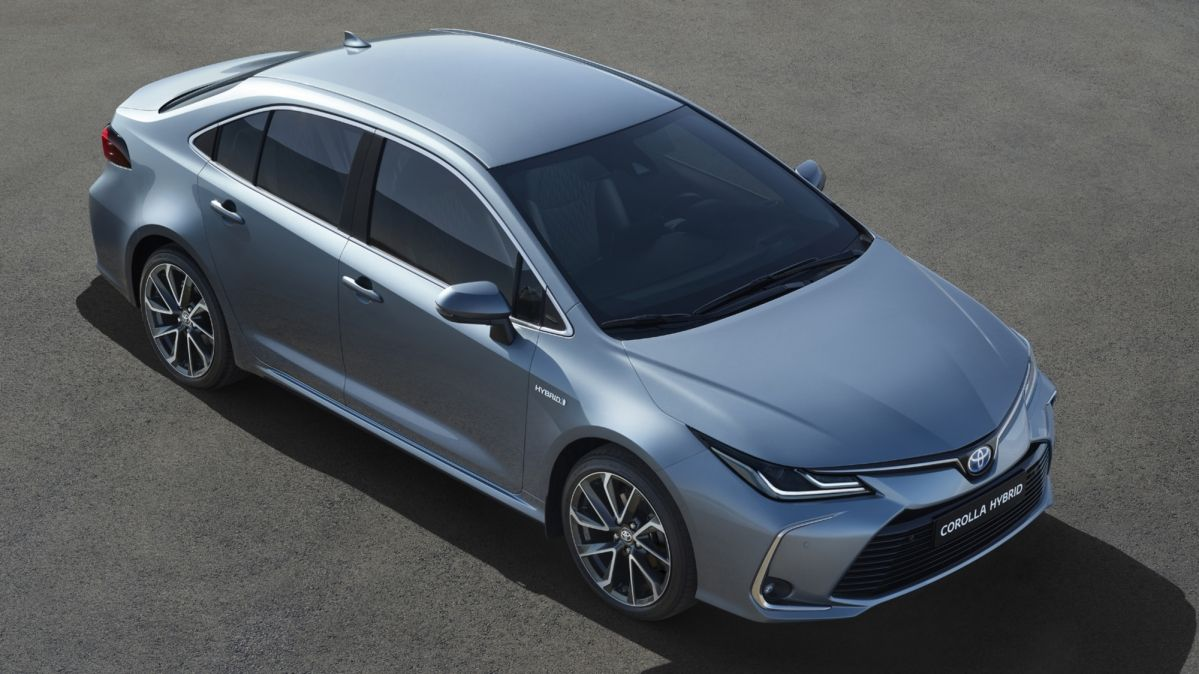car: (88, 28, 1057, 627)
